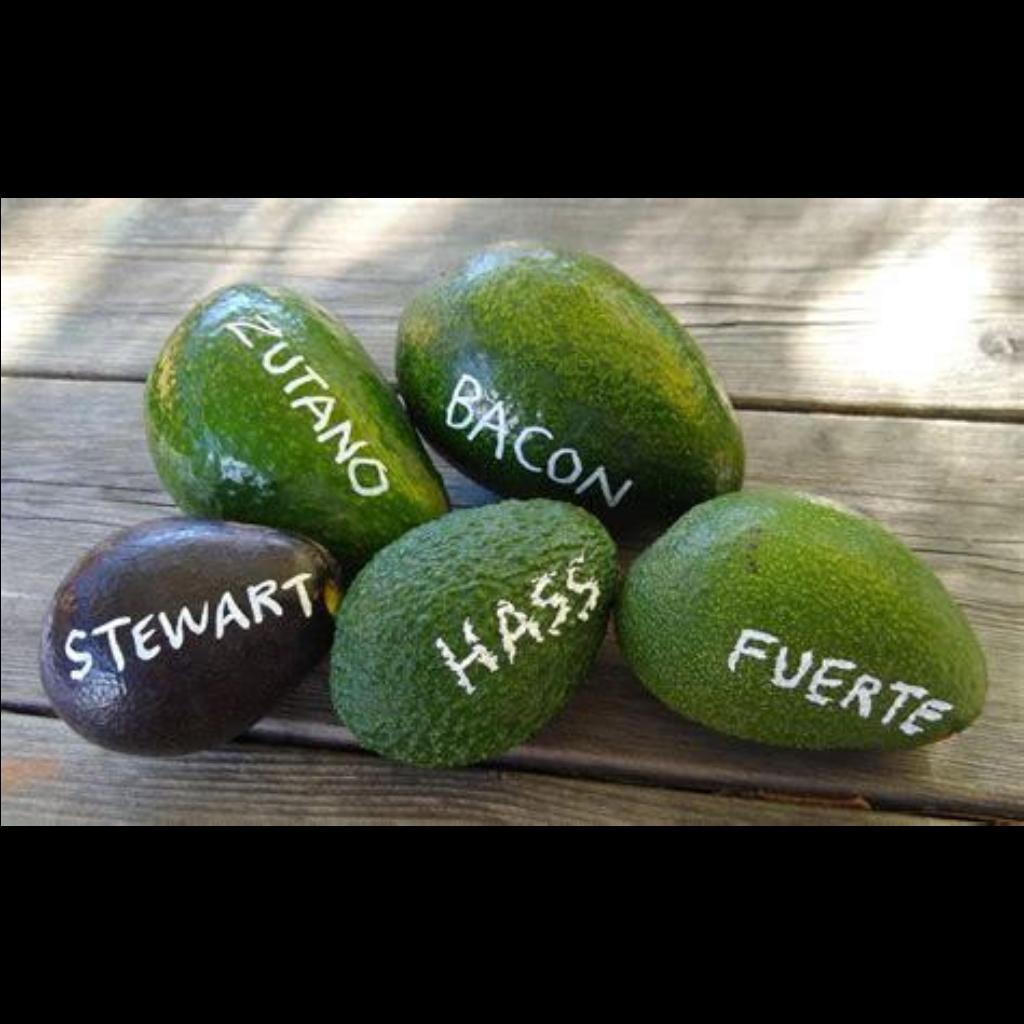Anthracnose: (35, 510, 309, 744)
